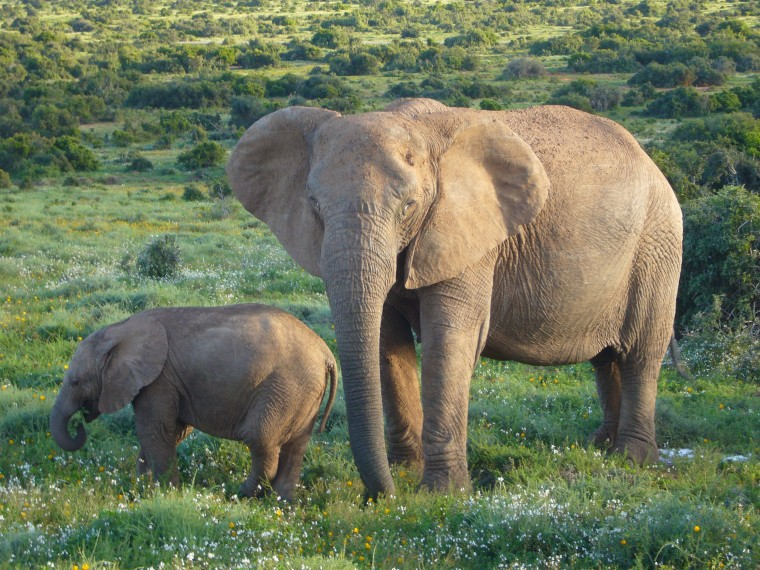africanelephant: (274, 106, 509, 406)
